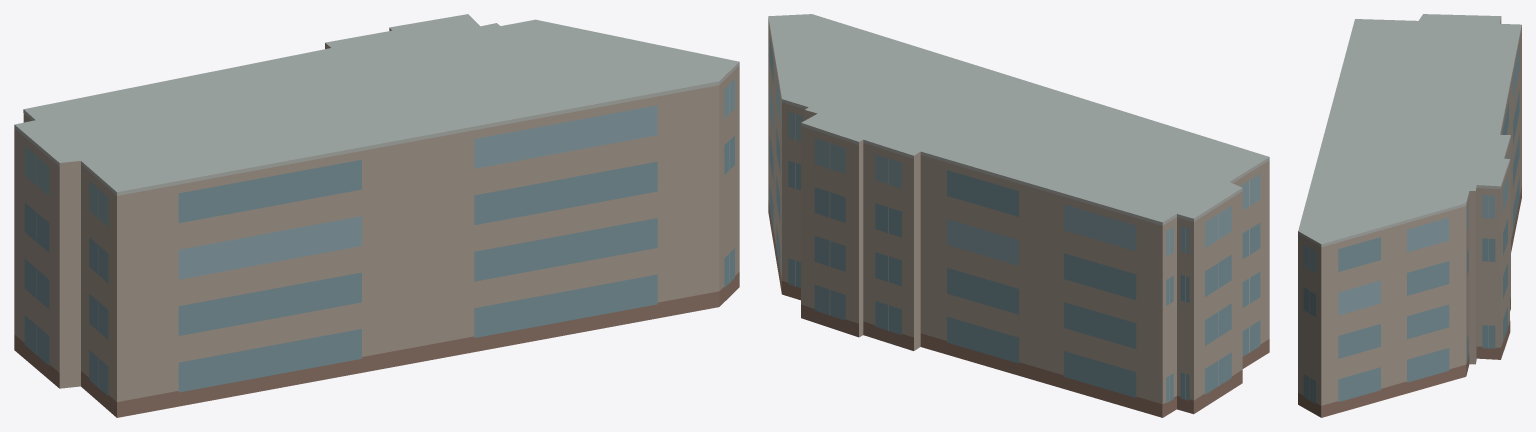
File: survey-upis-32835865.glb
3 renders of one model, left to right at view 1: azimuth 30°, elevation 25°; view 2: azimuth 150°, elevation 25°; view 3: azimuth 270°, elevation 25°, orthographic. The views are drawn at different scales.
Visible parts, largest first — view 1: survey-upis-32835865.tmp; view 2: survey-upis-32835865.tmp; view 3: survey-upis-32835865.tmp.
Part boxes in pixels (x1=…): survey-upis-32835865.tmp: x1=14, y1=14, x2=739, y2=417; survey-upis-32835865.tmp: x1=768, y1=14, x2=1269, y2=417; survey-upis-32835865.tmp: x1=1298, y1=14, x2=1521, y2=417.
Size of the model in its own units: 41.97 by 14.74 by 17.23.
